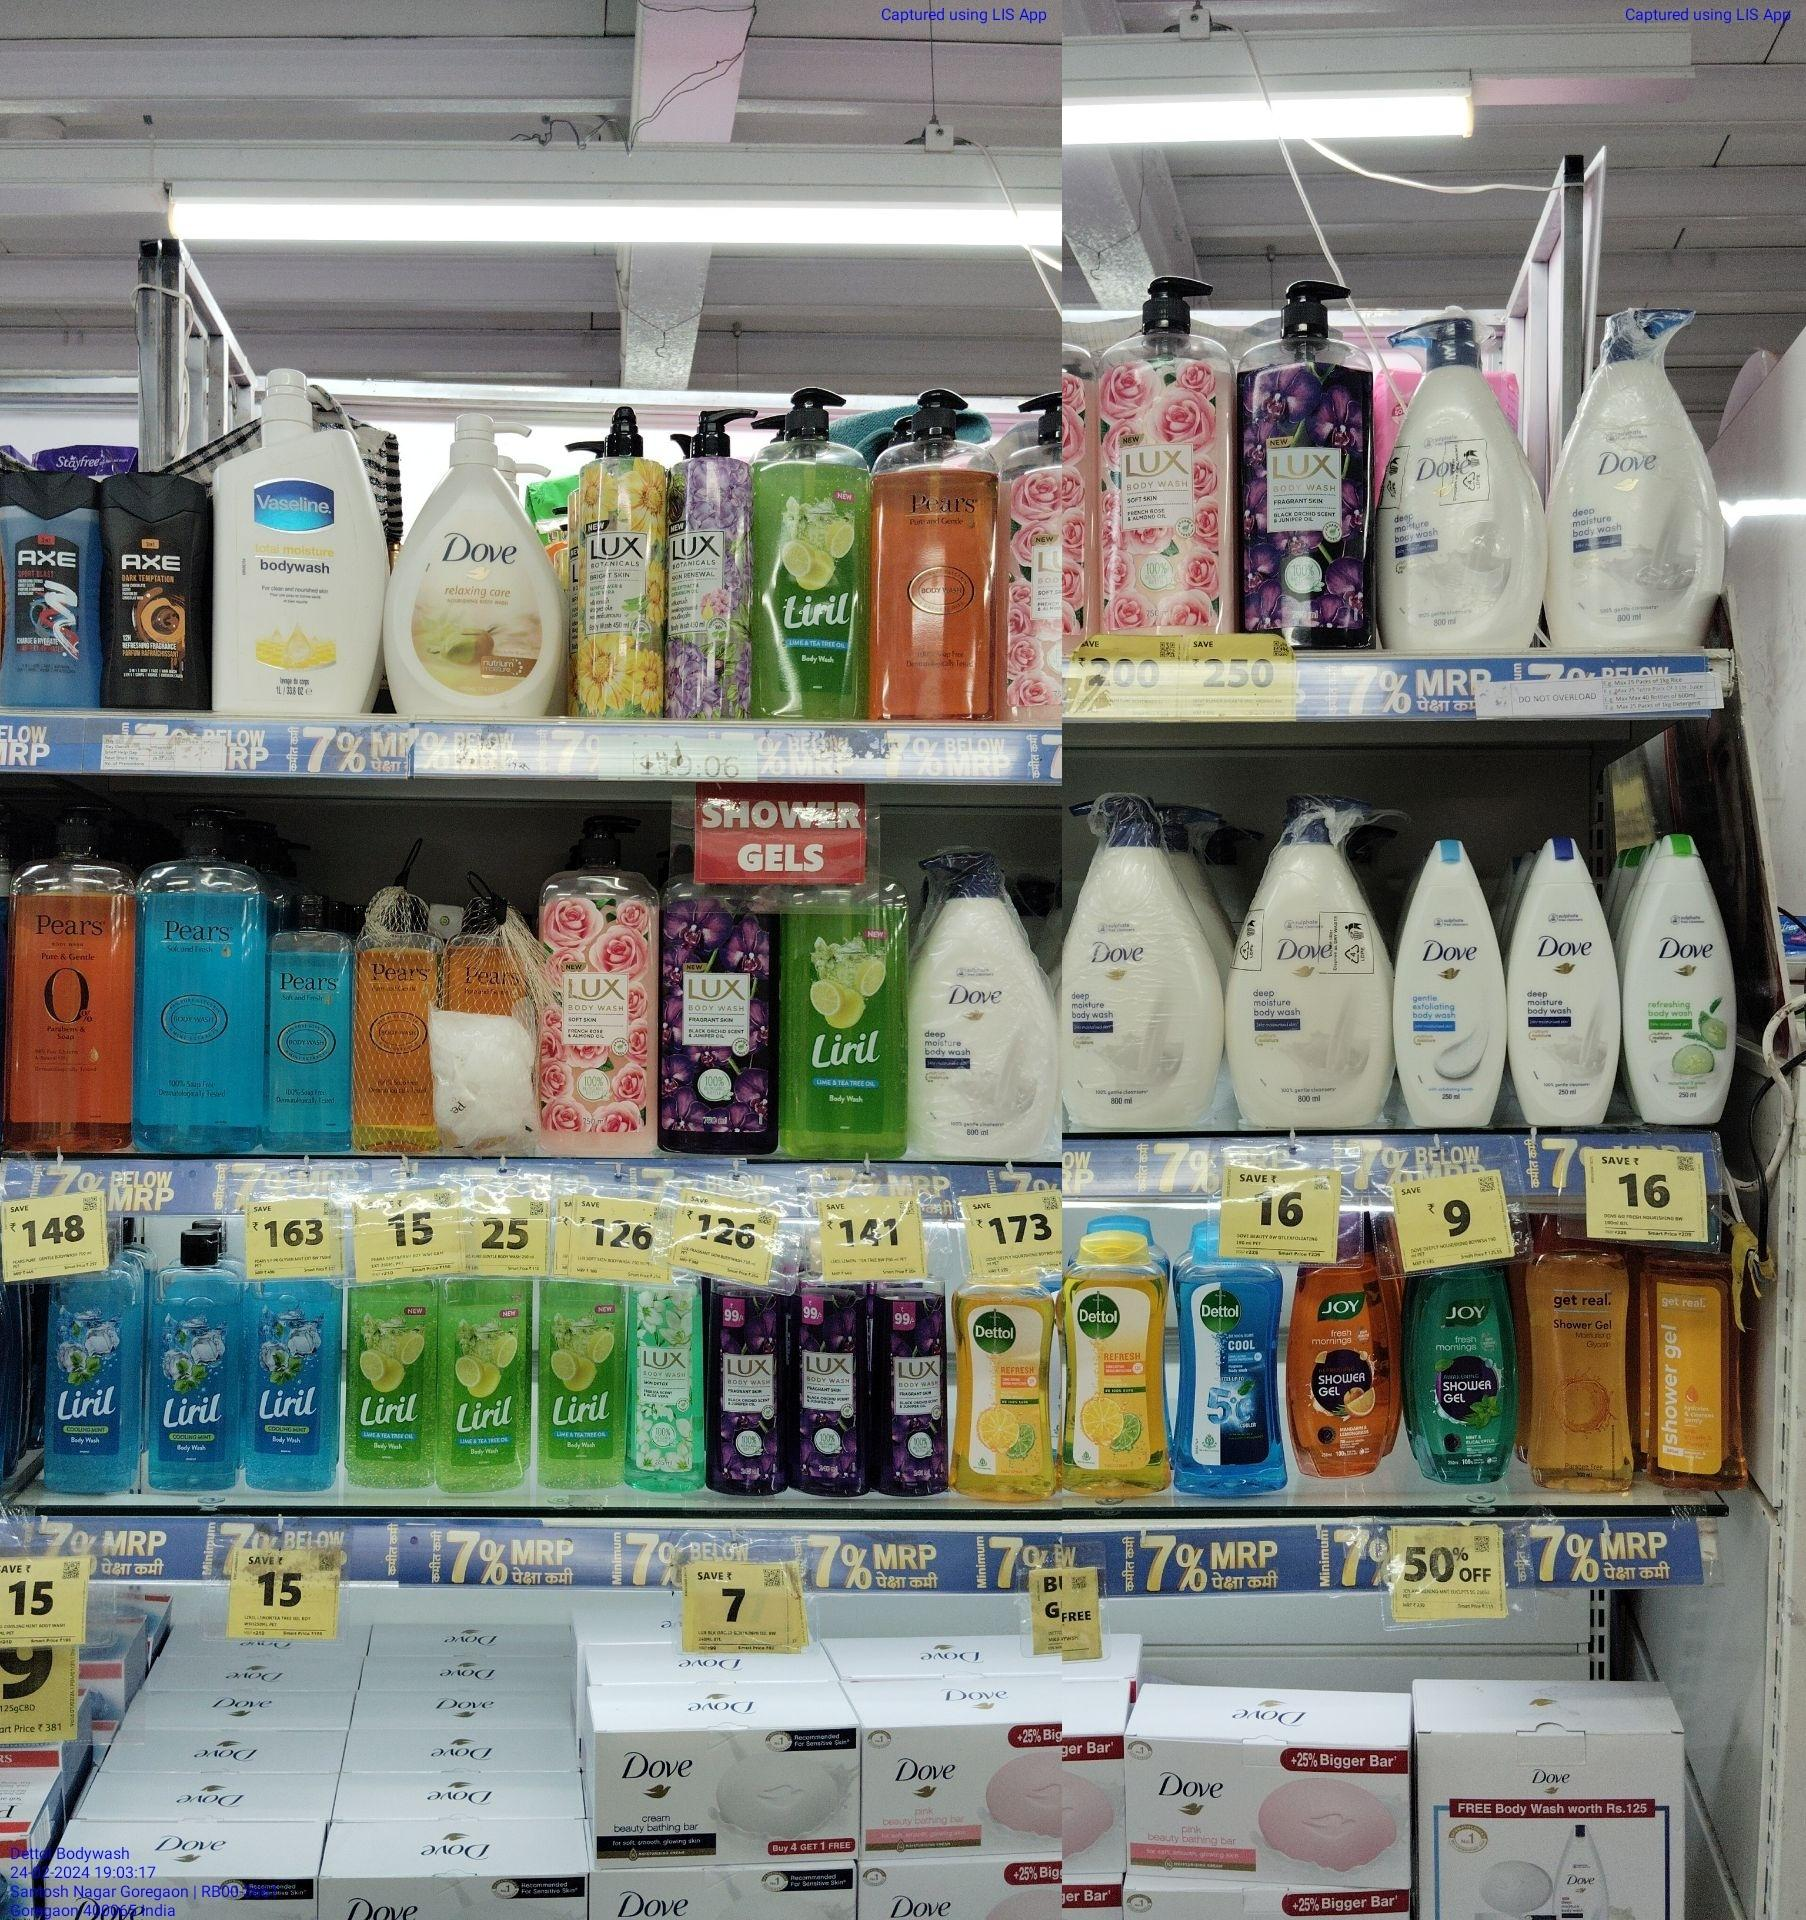Dettol_Bodywash_Cool: (1181, 1239, 1283, 1494)
Dettol_Bodywash_Refresh: (1066, 1244, 1166, 1494), (949, 1278, 1054, 1494)
Dove_Deep_Moisture_Body_Wash_250ML: (1506, 840, 1619, 1127)
Dove_Gentle_Exfoliating_Body_Wash_250ML: (1399, 844, 1507, 1127)
Dove_Refreshing_Body_Wash_250ML: (1623, 832, 1736, 1122)
Get_Real_Shower_Gel_Moisturising_Glycerin_300ML: (1529, 1214, 1636, 1496)
Joy_Shower_Gel_Mandarin_and_Lemongrass_250ML: (1290, 1238, 1383, 1482)
Joy_Shower_Gel_Mint_and_Eucalyptus_250ML: (1412, 1258, 1512, 1487)
Liril_Cooling_Mint_Body_Wash_250ML: (41, 1227, 134, 1497), (153, 1234, 243, 1487), (253, 1234, 341, 1487)
Liril_Lime_and_Tea_Tree_Oil_Body_Wash_250ML: (441, 1272, 531, 1489), (535, 1282, 625, 1489), (351, 1275, 435, 1492)
Lux_Black_Orchid_Scent_and_Juniper_Oil_Body_Wash_245ML: (869, 1278, 947, 1499), (794, 1283, 869, 1501), (713, 1282, 784, 1494)
Lux_Body_Wash_Skin_Detox_Freesia_Scent_and_Alove_Vera_245ML: (628, 1280, 704, 1494)
Pears_Pure_Glycerin_and_Mint_Extracts_Body_Wash_250ML: (270, 896, 356, 1151)
